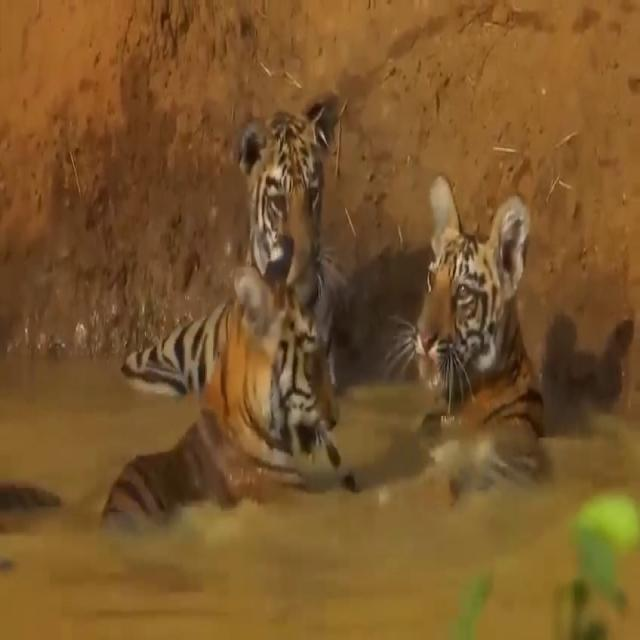tiger: (119, 94, 344, 425), (346, 170, 552, 507), (97, 256, 341, 524)
